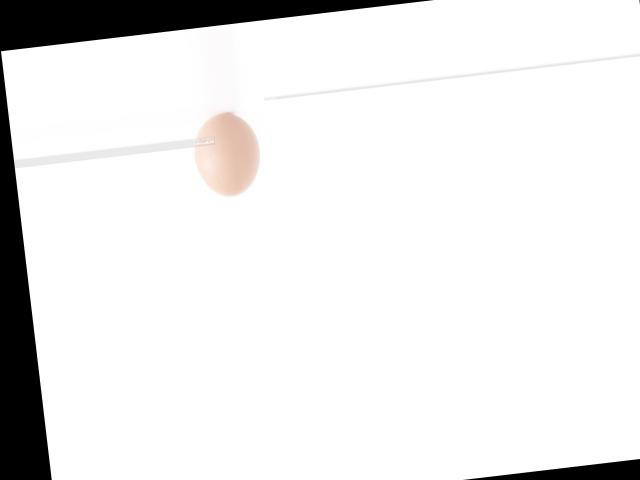egg: (189, 111, 264, 200)
